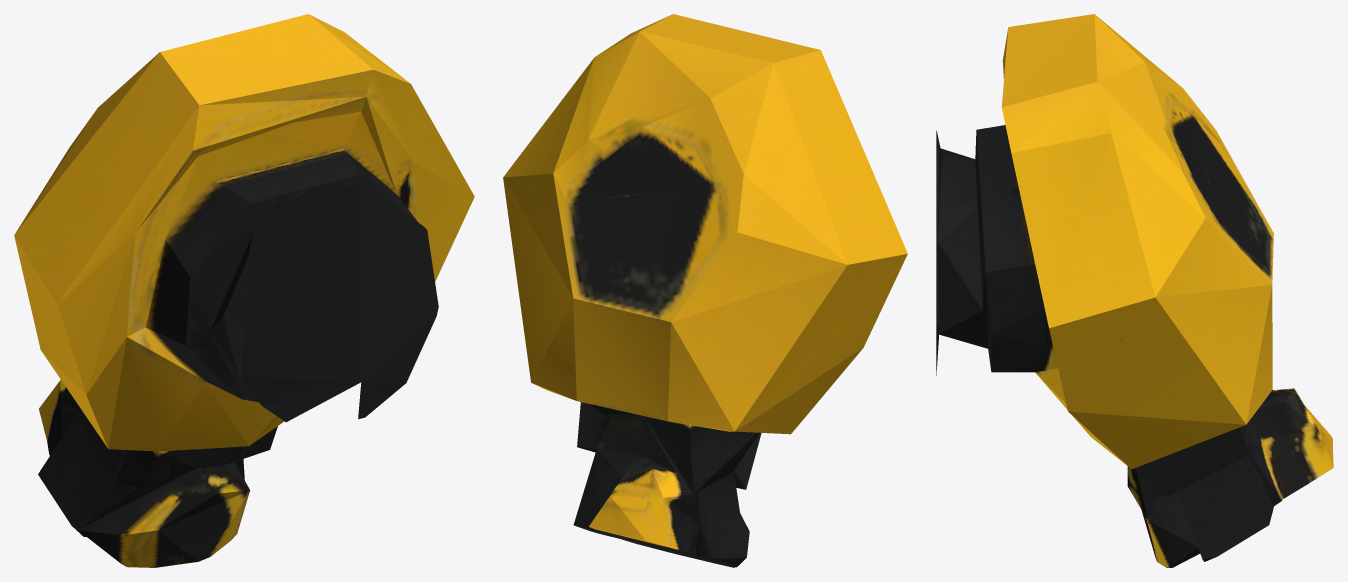
The model's file is SM_ChaserV2Debris_UpperArm_L.fbx.
3 renders of one model, left to right at view 1: azimuth 30°, elevation 25°; view 2: azimuth 150°, elevation 25°; view 3: azimuth 270°, elevation 25°, orthographic. The views are drawn at different scales.
Parts seen in each view (by area): view 1: SM_ChaserV2Debris_UpperArm_L; view 2: SM_ChaserV2Debris_UpperArm_L; view 3: SM_ChaserV2Debris_UpperArm_L.
Boxes of the visible parts, bbox=[...] form: SM_ChaserV2Debris_UpperArm_L: bbox=[14, 14, 474, 567]; SM_ChaserV2Debris_UpperArm_L: bbox=[503, 14, 907, 567]; SM_ChaserV2Debris_UpperArm_L: bbox=[936, 14, 1333, 567].
Bounding box in the file's own units: 22.21 × 28.02 × 19.74.
1 material, 1 textured.
